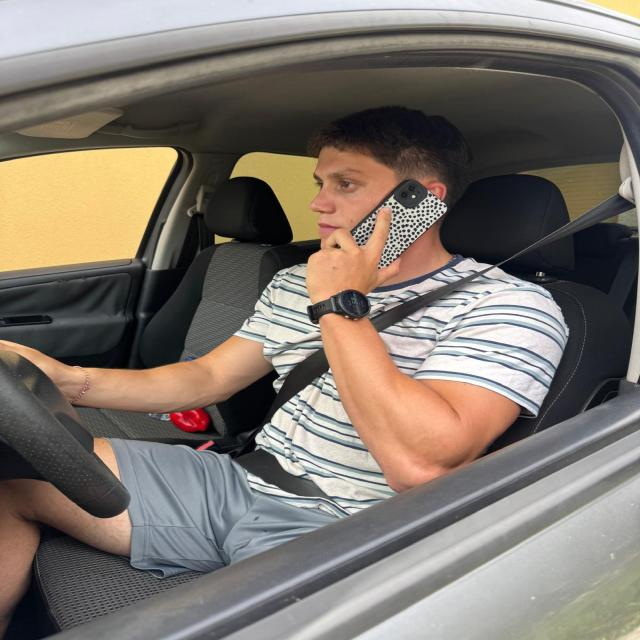Phone: (339, 177, 449, 267)
Seatbelt: (232, 191, 640, 514)
